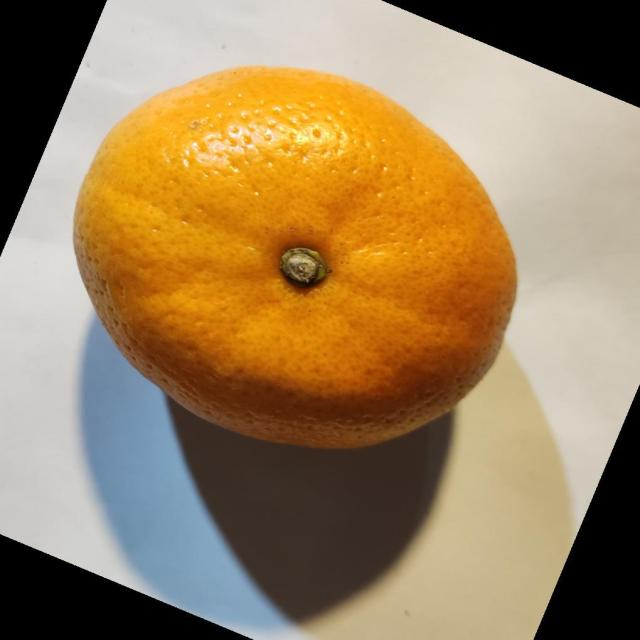fresh orange: (71, 63, 519, 450)
